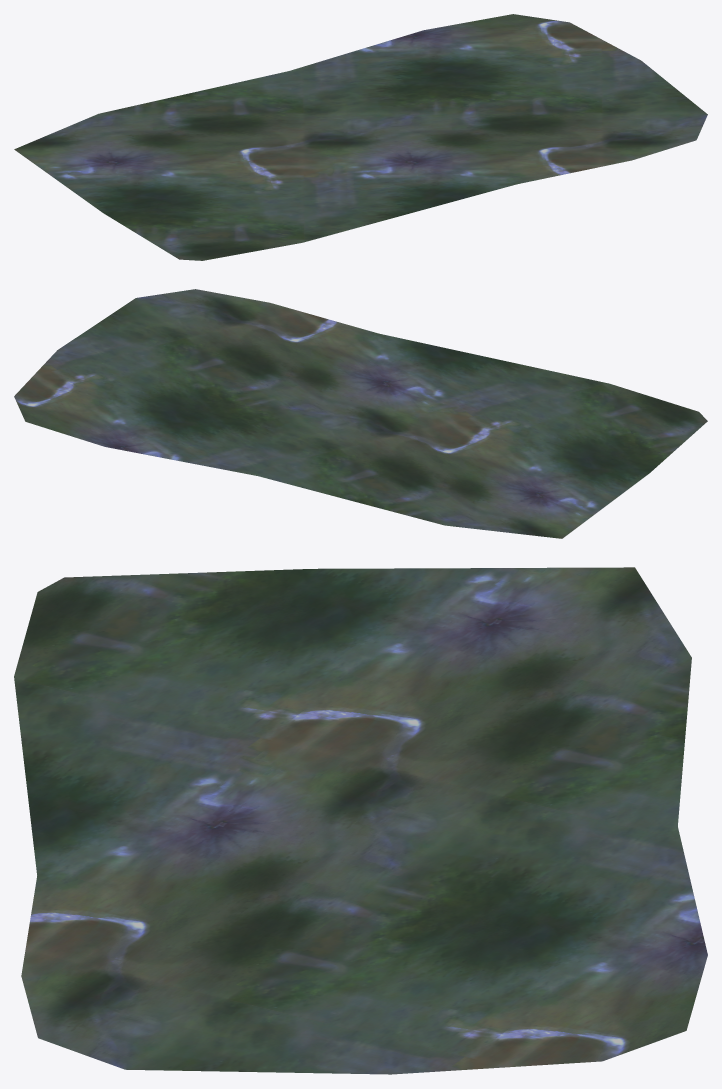
Rendered from CZPlat_1_Top.gltf.
3 renders of one model, top to bottom at view 1: azimuth 30°, elevation 25°; view 2: azimuth 150°, elevation 25°; view 3: azimuth 270°, elevation 25°, orthographic. The views are drawn at different scales.
Visible parts, largest first — view 1: CZPlat_1_Top; view 2: CZPlat_1_Top; view 3: CZPlat_1_Top.
Boxes of the visible parts, box(x1,y1,x2,y2) form: CZPlat_1_Top: box(14, 14, 707, 260); CZPlat_1_Top: box(14, 289, 707, 538); CZPlat_1_Top: box(14, 567, 707, 1074).
Size of the model in its own units: 69.28 by 0.00217 by 40.07.
1 material, 1 textured.
